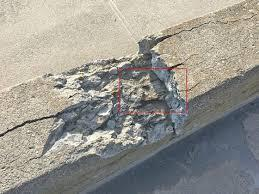spalling: (42, 35, 190, 158)
